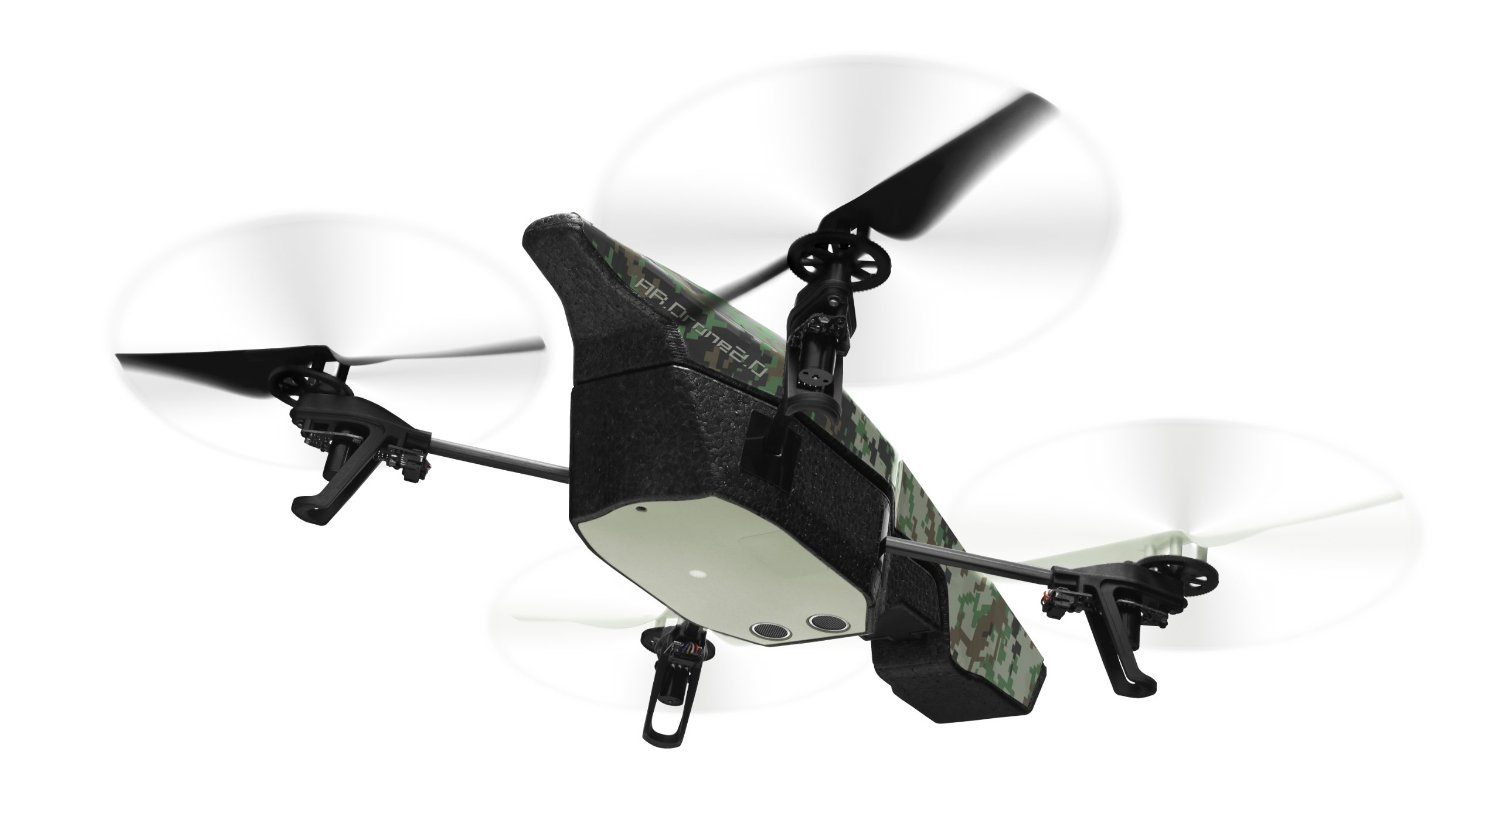drone: (106, 50, 1426, 757)
